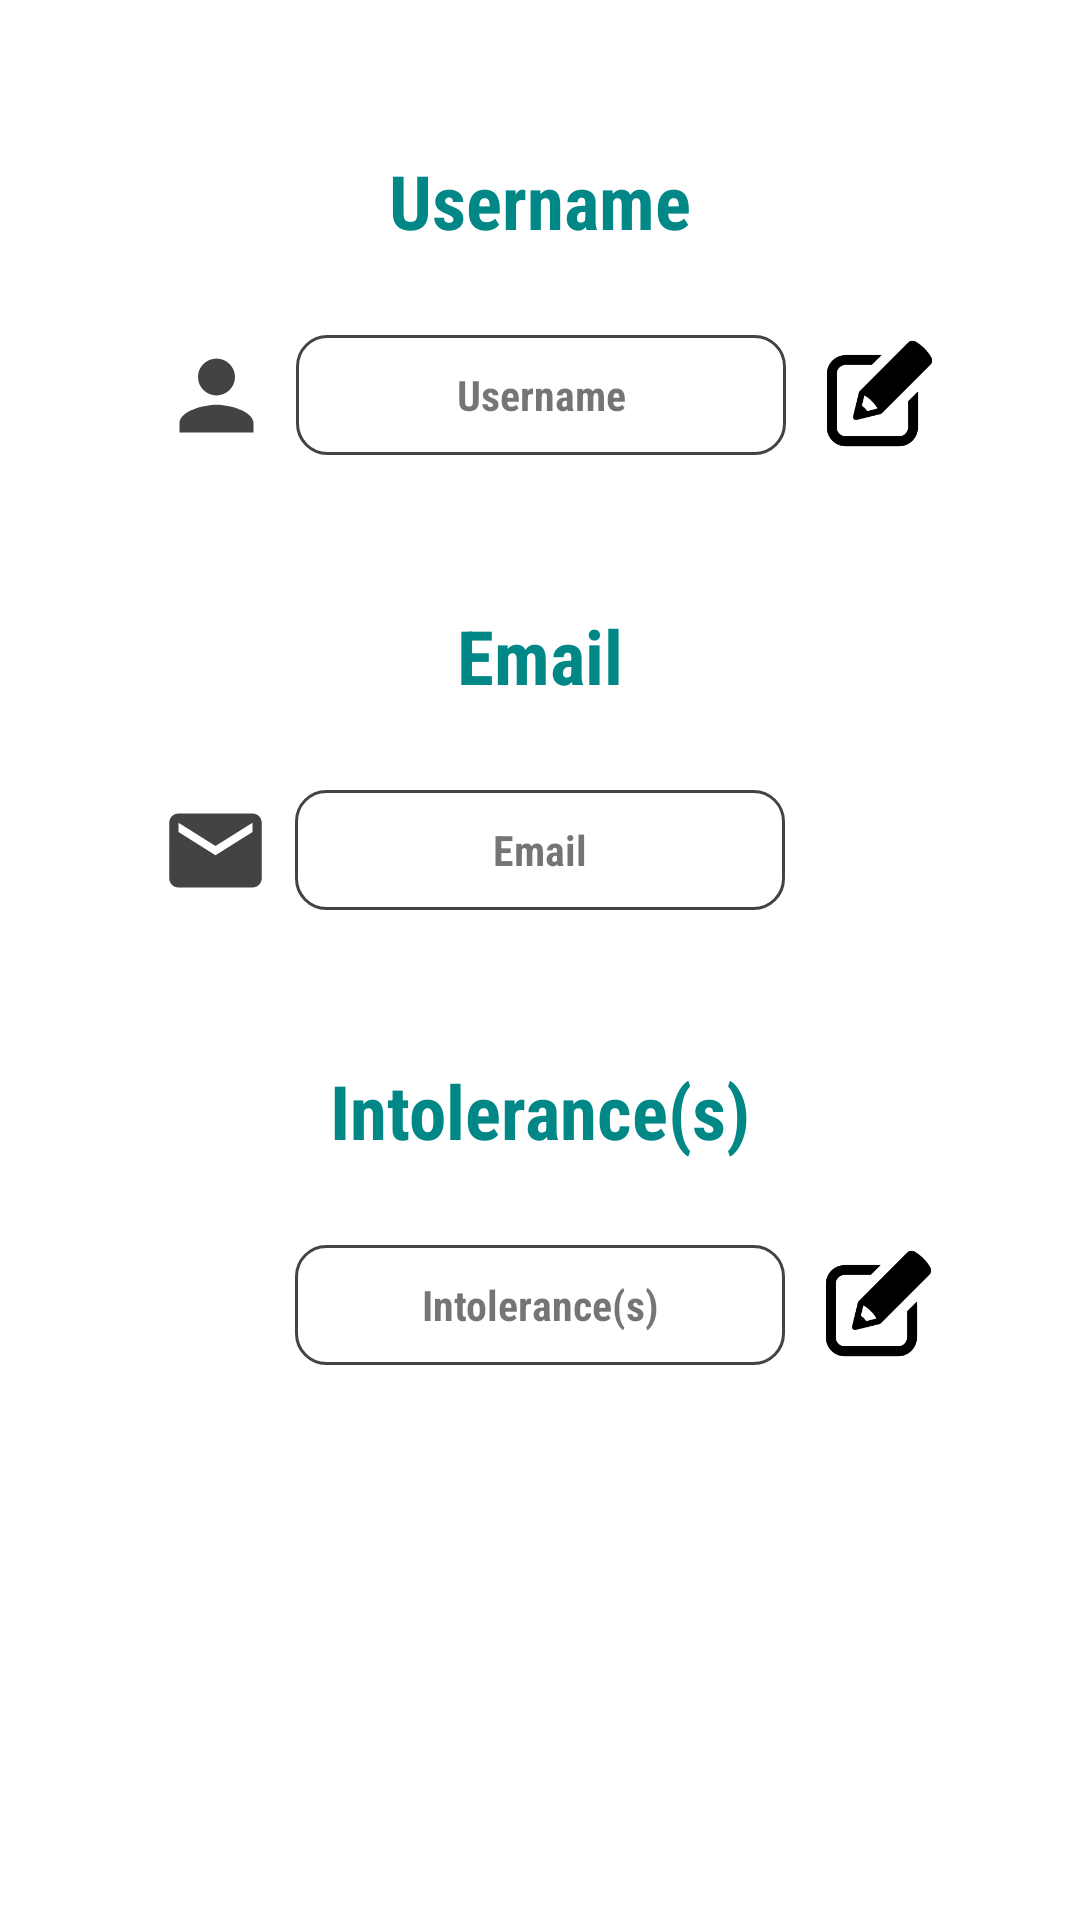

Icon bounding boxes for this 1080x1920 phone screenshot, format (x1, y1, x2, y2):
change: (827, 340, 932, 447), (826, 1250, 931, 1357)
person: (179, 358, 254, 433)
